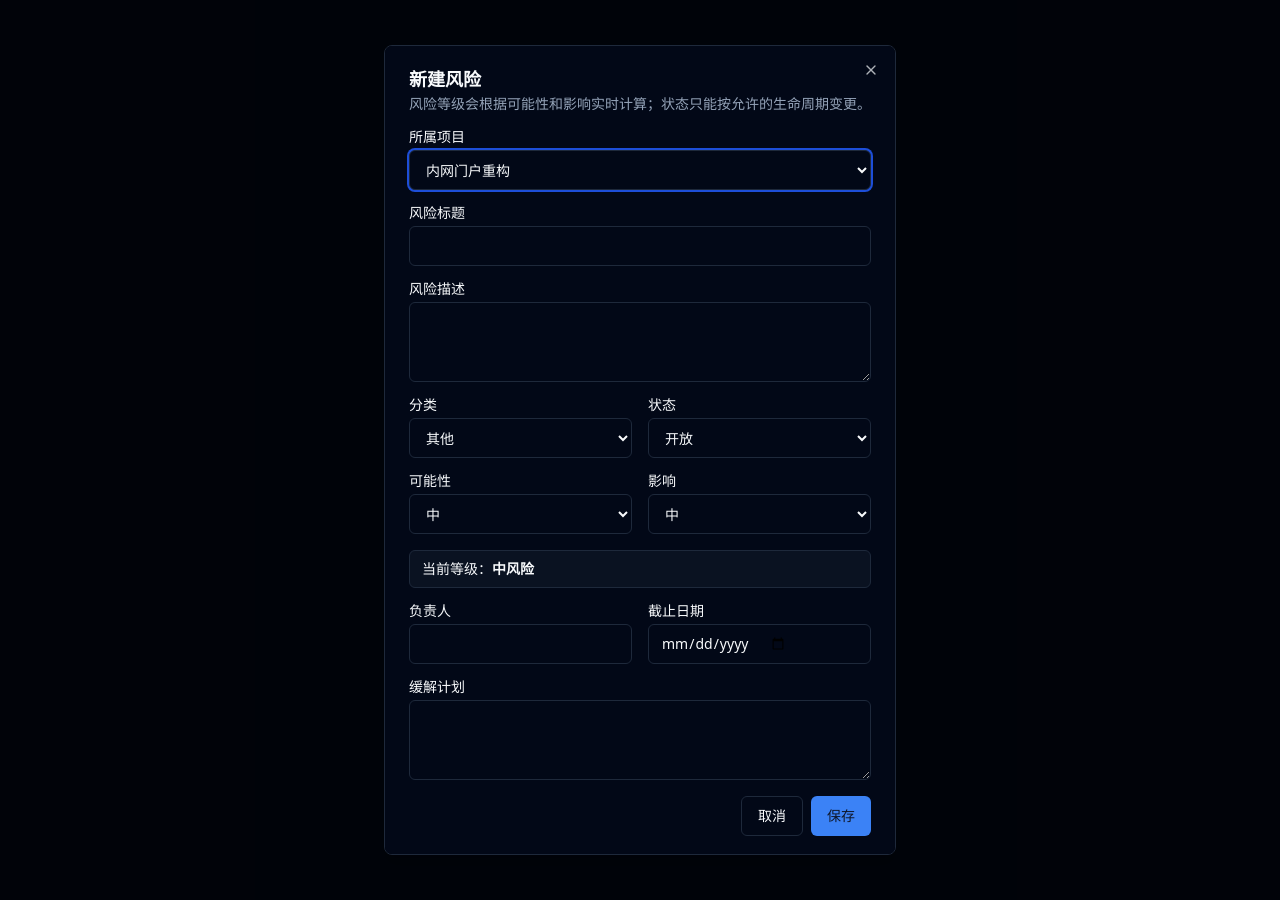
Test: RiskForm › shows Chinese Zod validation errors before saving
Click the button "保存". click: (841, 816)
box: [811,796,871,836]
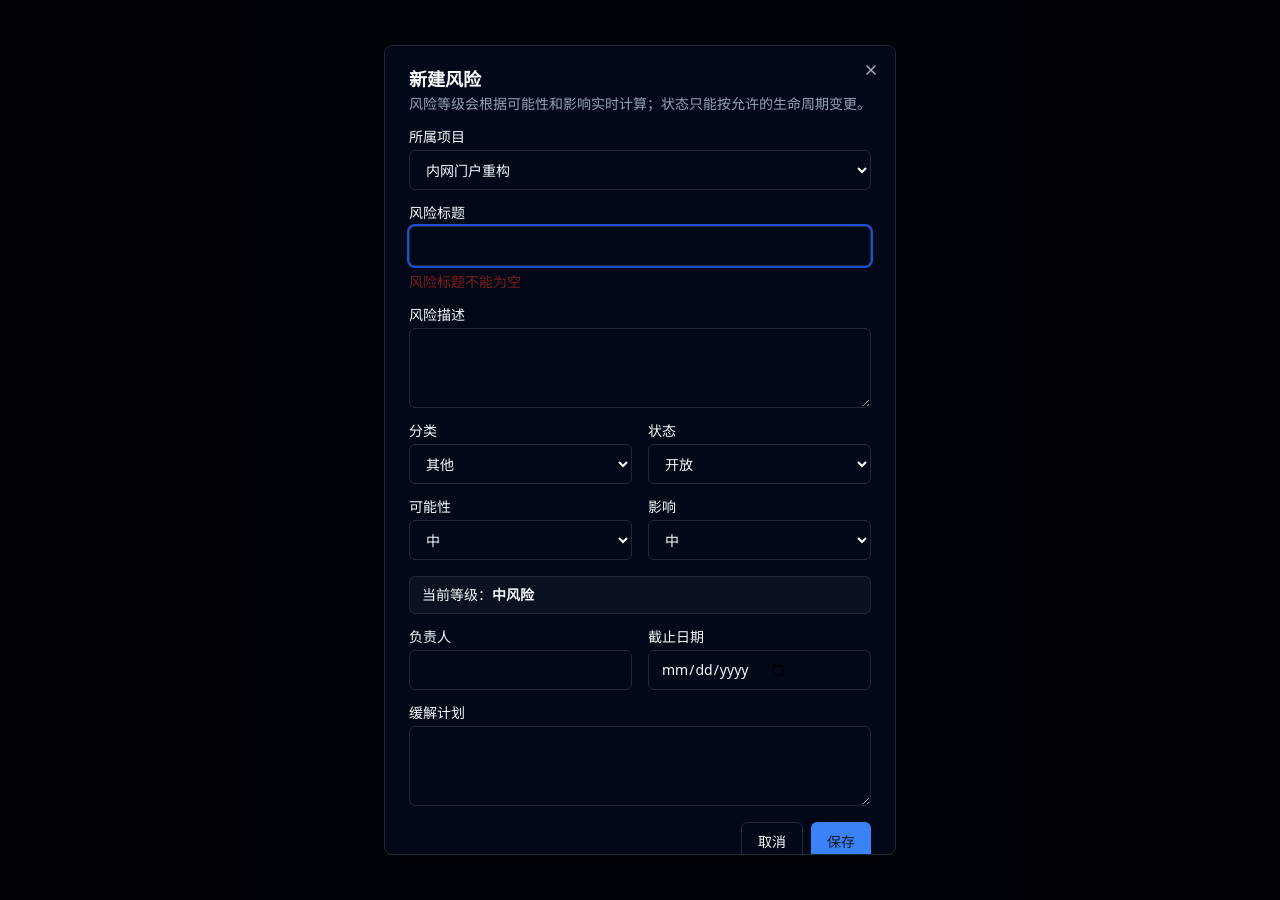
Result: the text "风险标题不能为空" is shown at [409,272,521,291]
